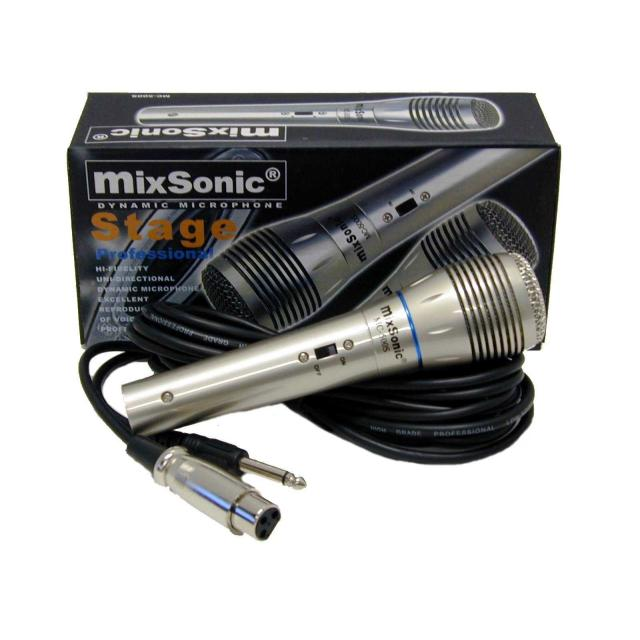microphone: (131, 250, 537, 432)
